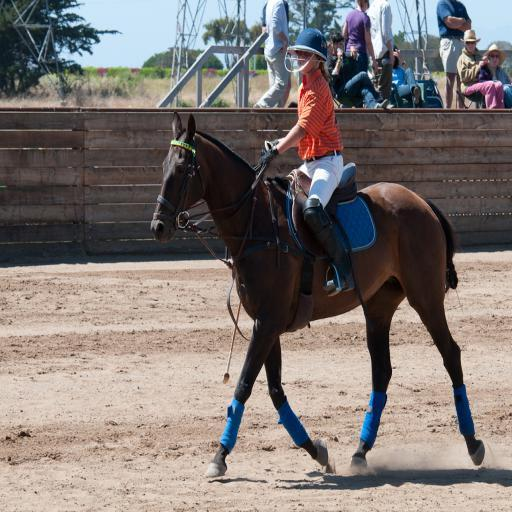horse: (146, 112, 485, 482)
